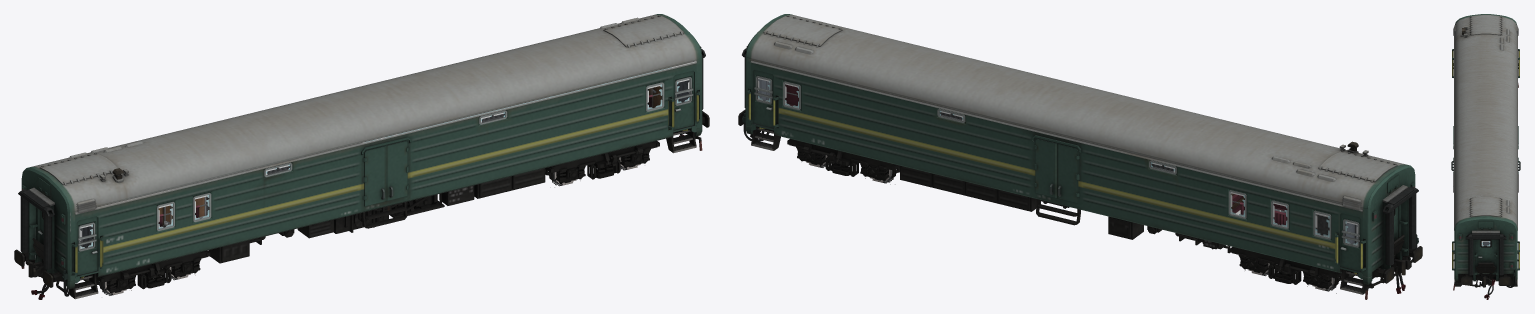
The model's file is mvp_ir_amendorf_baggage.obj.
The picture shows the model from 3 angles, left to right: view 1: azimuth 30°, elevation 25°; view 2: azimuth 150°, elevation 25°; view 3: azimuth 270°, elevation 25°; orthographic projection. The views are drawn at different scales.
Parts seen in each view (by area): view 1: FRAME_mvp_amendorf_baggage, BOGEY_FRONT_mvp_amendorf_baggage, BOGEY_REAR_mvp_amendorf_baggage, DOOR_7_TOGGLE_EXTERNAL_CG_LBD_mvp_amendorf_baggage_1, DOOR_7_TOGGLE_EXTERNAL_CG_LBD_mvp_amendorf_baggage, INTERIOR_1_LCG_IL, DOOR_4_TOGGLE_EXTERNAL_CG_Door4_mvp_amendorf, DOOR_1_TOGGLE_EXTERNAL_CG_Door1_mvp_amendorf; view 2: FRAME_mvp_amendorf_baggage, BOGEY_FRONT_mvp_amendorf_baggage, BOGEY_REAR_mvp_amendorf_baggage, INTERIOR_1_LCG_IL, DOOR_8_TOGGLE_EXTERNAL_CG_RBD_mvp_amendorf_baggage, DOOR_8_TOGGLE_EXTERNAL_CG_RBD_mvp_amendorf_baggage_1, DOOR_2_TOGGLE_EXTERNAL_CG_Door2_mvp_amendorf, DOOR_3_TOGGLE_EXTERNAL_CG_Door3_mvp_amendorf; view 3: FRAME_mvp_amendorf_baggage, DOOR_6_TOGGLE_CONNECTING_CG_Trap2_mvp_amendorf, TRAPDOOR_6_mvp_amendorf.
Part boxes in pixels (x1=…): FRAME_mvp_amendorf_baggage: x1=14, y1=14, x2=709, y2=299; BOGEY_FRONT_mvp_amendorf_baggage: x1=83, y1=250, x2=210, y2=293; BOGEY_REAR_mvp_amendorf_baggage: x1=545, y1=141, x2=659, y2=183; DOOR_7_TOGGLE_EXTERNAL_CG_LBD_mvp_amendorf_baggage_1: x1=386, y1=141, x2=407, y2=200; DOOR_7_TOGGLE_EXTERNAL_CG_LBD_mvp_amendorf_baggage: x1=364, y1=145, x2=385, y2=206; INTERIOR_1_LCG_IL: x1=77, y1=80, x2=694, y2=276; DOOR_4_TOGGLE_EXTERNAL_CG_Door4_mvp_amendorf: x1=673, y1=70, x2=694, y2=130; DOOR_1_TOGGLE_EXTERNAL_CG_Door1_mvp_amendorf: x1=76, y1=216, x2=97, y2=275; FRAME_mvp_amendorf_baggage: x1=738, y1=14, x2=1422, y2=294; BOGEY_FRONT_mvp_amendorf_baggage: x1=1229, y1=247, x2=1354, y2=289; BOGEY_REAR_mvp_amendorf_baggage: x1=787, y1=139, x2=899, y2=181; INTERIOR_1_LCG_IL: x1=753, y1=79, x2=1360, y2=271; DOOR_8_TOGGLE_EXTERNAL_CG_RBD_mvp_amendorf_baggage: x1=1035, y1=139, x2=1056, y2=197; DOOR_8_TOGGLE_EXTERNAL_CG_RBD_mvp_amendorf_baggage_1: x1=1057, y1=143, x2=1078, y2=203; DOOR_2_TOGGLE_EXTERNAL_CG_Door2_mvp_amendorf: x1=1340, y1=213, x2=1361, y2=271; DOOR_3_TOGGLE_EXTERNAL_CG_Door3_mvp_amendorf: x1=753, y1=70, x2=773, y2=128; FRAME_mvp_amendorf_baggage: x1=1452, y1=14, x2=1519, y2=287; DOOR_6_TOGGLE_CONNECTING_CG_Trap2_mvp_amendorf: x1=1477, y1=239, x2=1494, y2=265; TRAPDOOR_6_mvp_amendorf: x1=1476, y1=262, x2=1495, y2=272.
Bounding box in the file's own units: 25.12 × 4.67 × 3.44.
